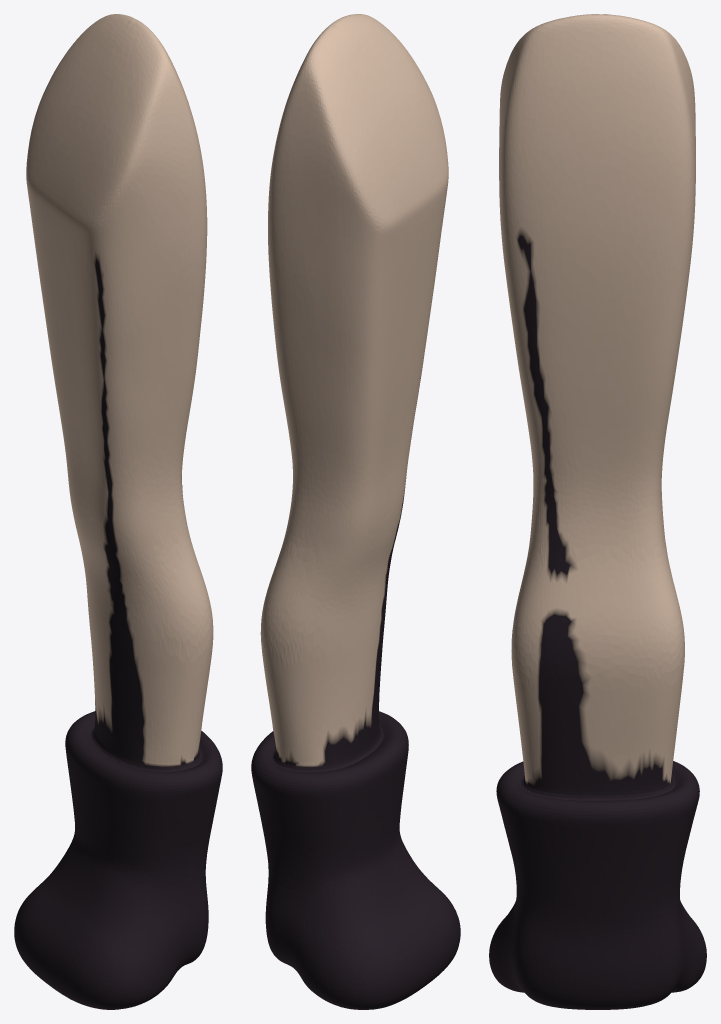
The model's file is leg_R.glb.
3 renders of one model, left to right at view 1: azimuth 30°, elevation 25°; view 2: azimuth 150°, elevation 25°; view 3: azimuth 270°, elevation 25°, orthographic. The views are drawn at different scales.
Parts seen in each view (by area): view 1: geometry_0; view 2: geometry_0; view 3: geometry_0.
Boxes of the visible parts, x1,y1,x2,y2 form: geometry_0: [14, 14, 222, 1009]; geometry_0: [251, 14, 460, 1009]; geometry_0: [489, 14, 706, 1009].
Bounding box in the file's own units: 0.224 × 1.26 × 0.2487.
